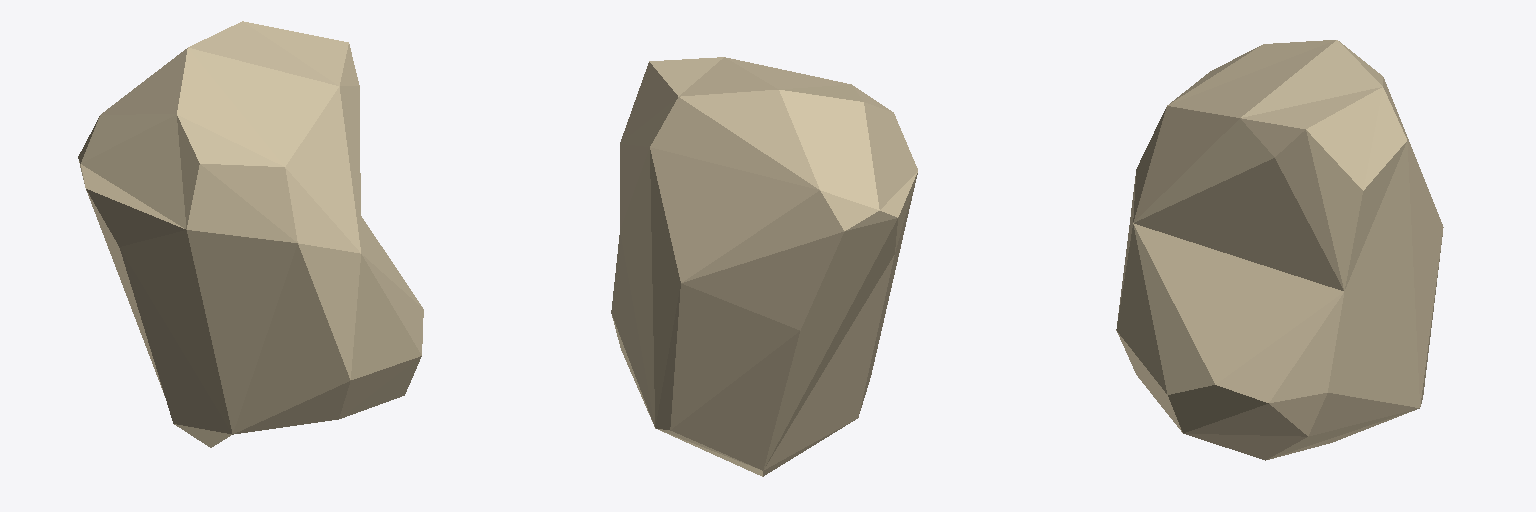
3 renders of one model, left to right at view 1: azimuth 30°, elevation 25°; view 2: azimuth 150°, elevation 25°; view 3: azimuth 270°, elevation 25°, orthographic.
Parts seen in each view (by area): view 1: 右もも; view 2: 右もも; view 3: 右もも.
Boxes of the visible parts, box(x1,y1,x2,y2) form: 右もも: box(78, 21, 423, 447); 右もも: box(611, 57, 917, 476); 右もも: box(1116, 40, 1443, 460).
Size of the model in its own units: 0.6666 by 0.8354 by 0.6285.
Materials: 1 (1 with a texture image).